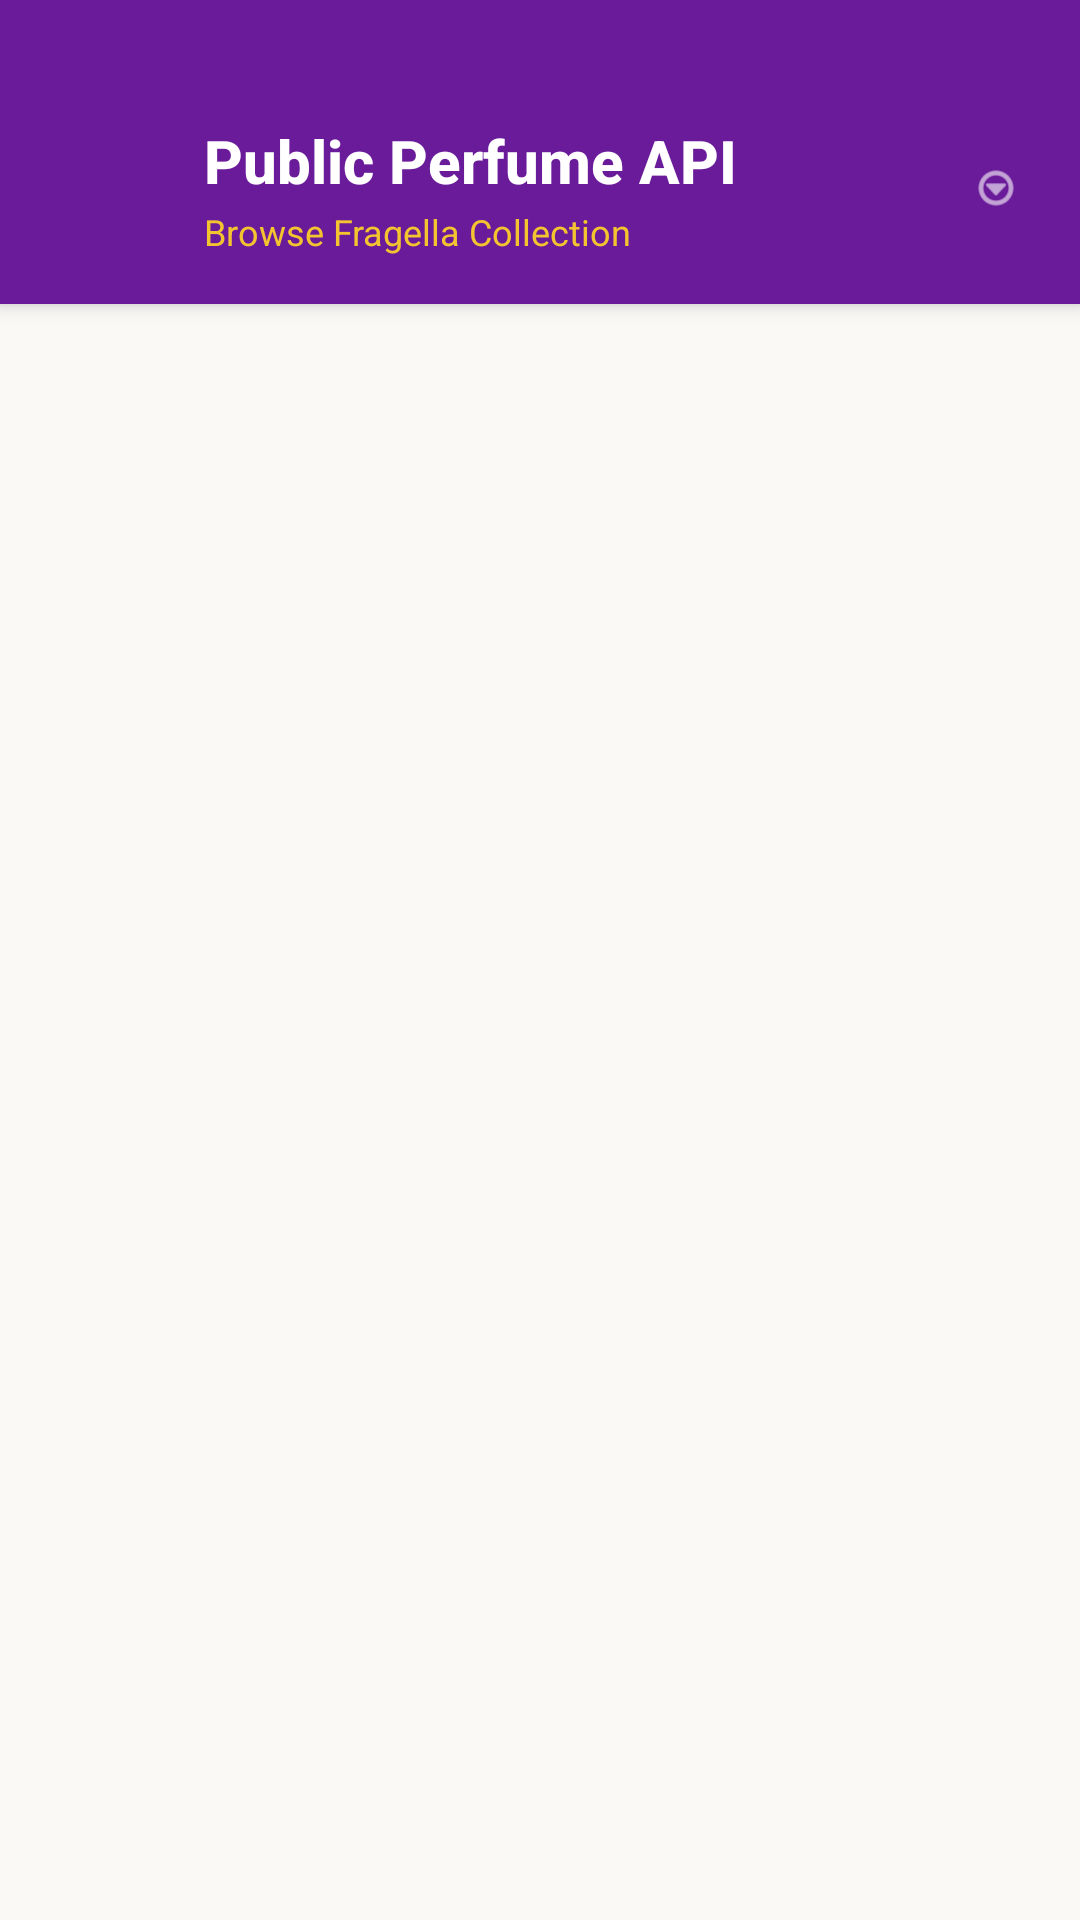

Named icons in this screenshot (1080×1920) and their centers, (x=x, y=y):
Menu: (x=996, y=188)
